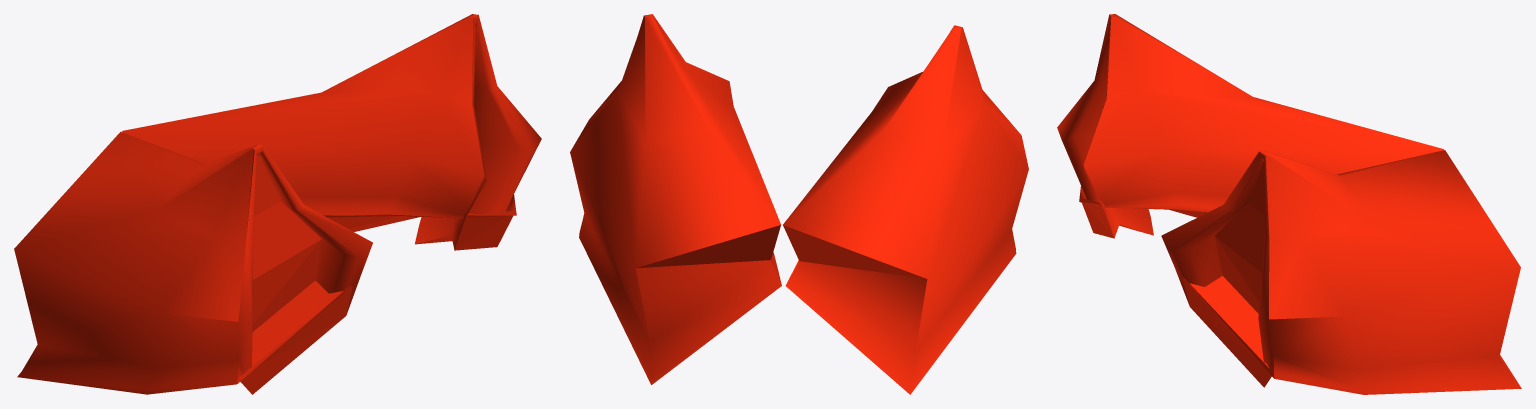
The picture shows the model from 3 angles, left to right: view 1: azimuth 30°, elevation 25°; view 2: azimuth 150°, elevation 25°; view 3: azimuth 270°, elevation 25°; orthographic projection. The views are drawn at different scales.
Visible parts, largest first — view 1: ears_005.001; view 2: ears_005.001; view 3: ears_005.001.
Boxes of the visible parts, left/top/right/bottom form: ears_005.001: left=14, top=14, right=541, bottom=394; ears_005.001: left=570, top=14, right=1028, bottom=394; ears_005.001: left=1057, top=14, right=1521, bottom=394.
Bounding box in the file's own units: 95.46 × 86.35 × 61.67.
